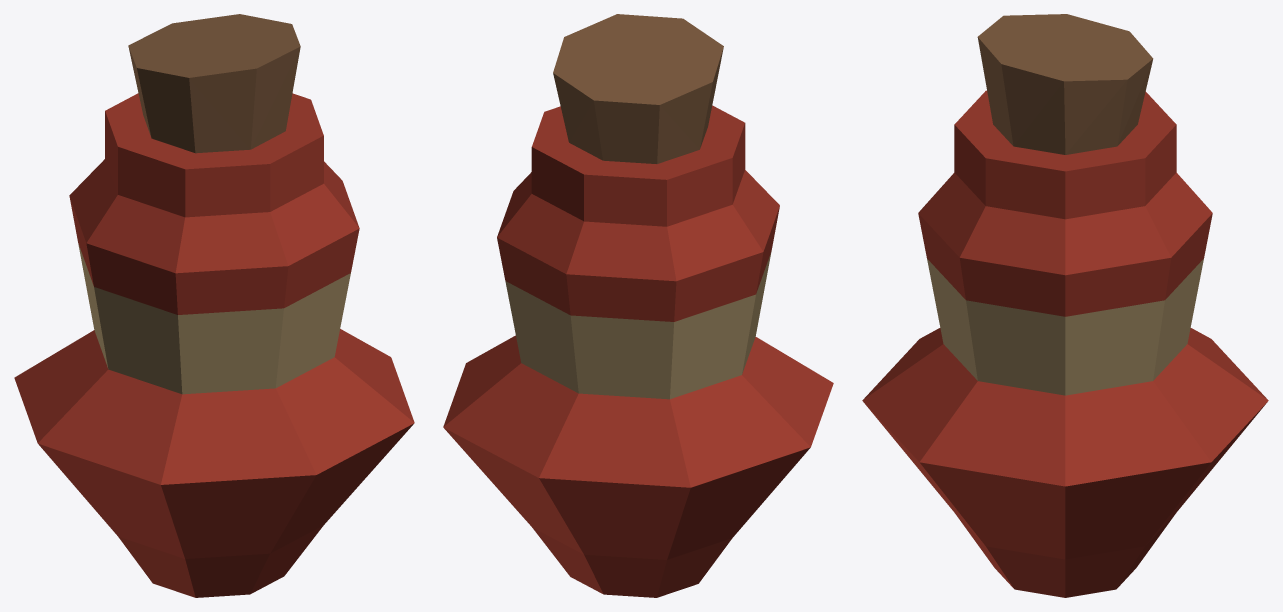
The model's file is potion_a.glb.
3 views of the same model, side by side, from view 1: azimuth 30°, elevation 25°; view 2: azimuth 150°, elevation 25°; view 3: azimuth 270°, elevation 25° (orthographic). The views are drawn at different scales.
Parts seen in each view (by area): view 1: SM_Item_Potion_01; view 2: SM_Item_Potion_01; view 3: SM_Item_Potion_01.
Part boxes in pixels (x1,y1,x2,y2): SM_Item_Potion_01: (14,14,414,597); SM_Item_Potion_01: (443,14,833,597); SM_Item_Potion_01: (862,14,1268,597).
Size of the model in its own units: 19.8 by 28.5 by 19.8.
Materials: 1 (1 with a texture image).
